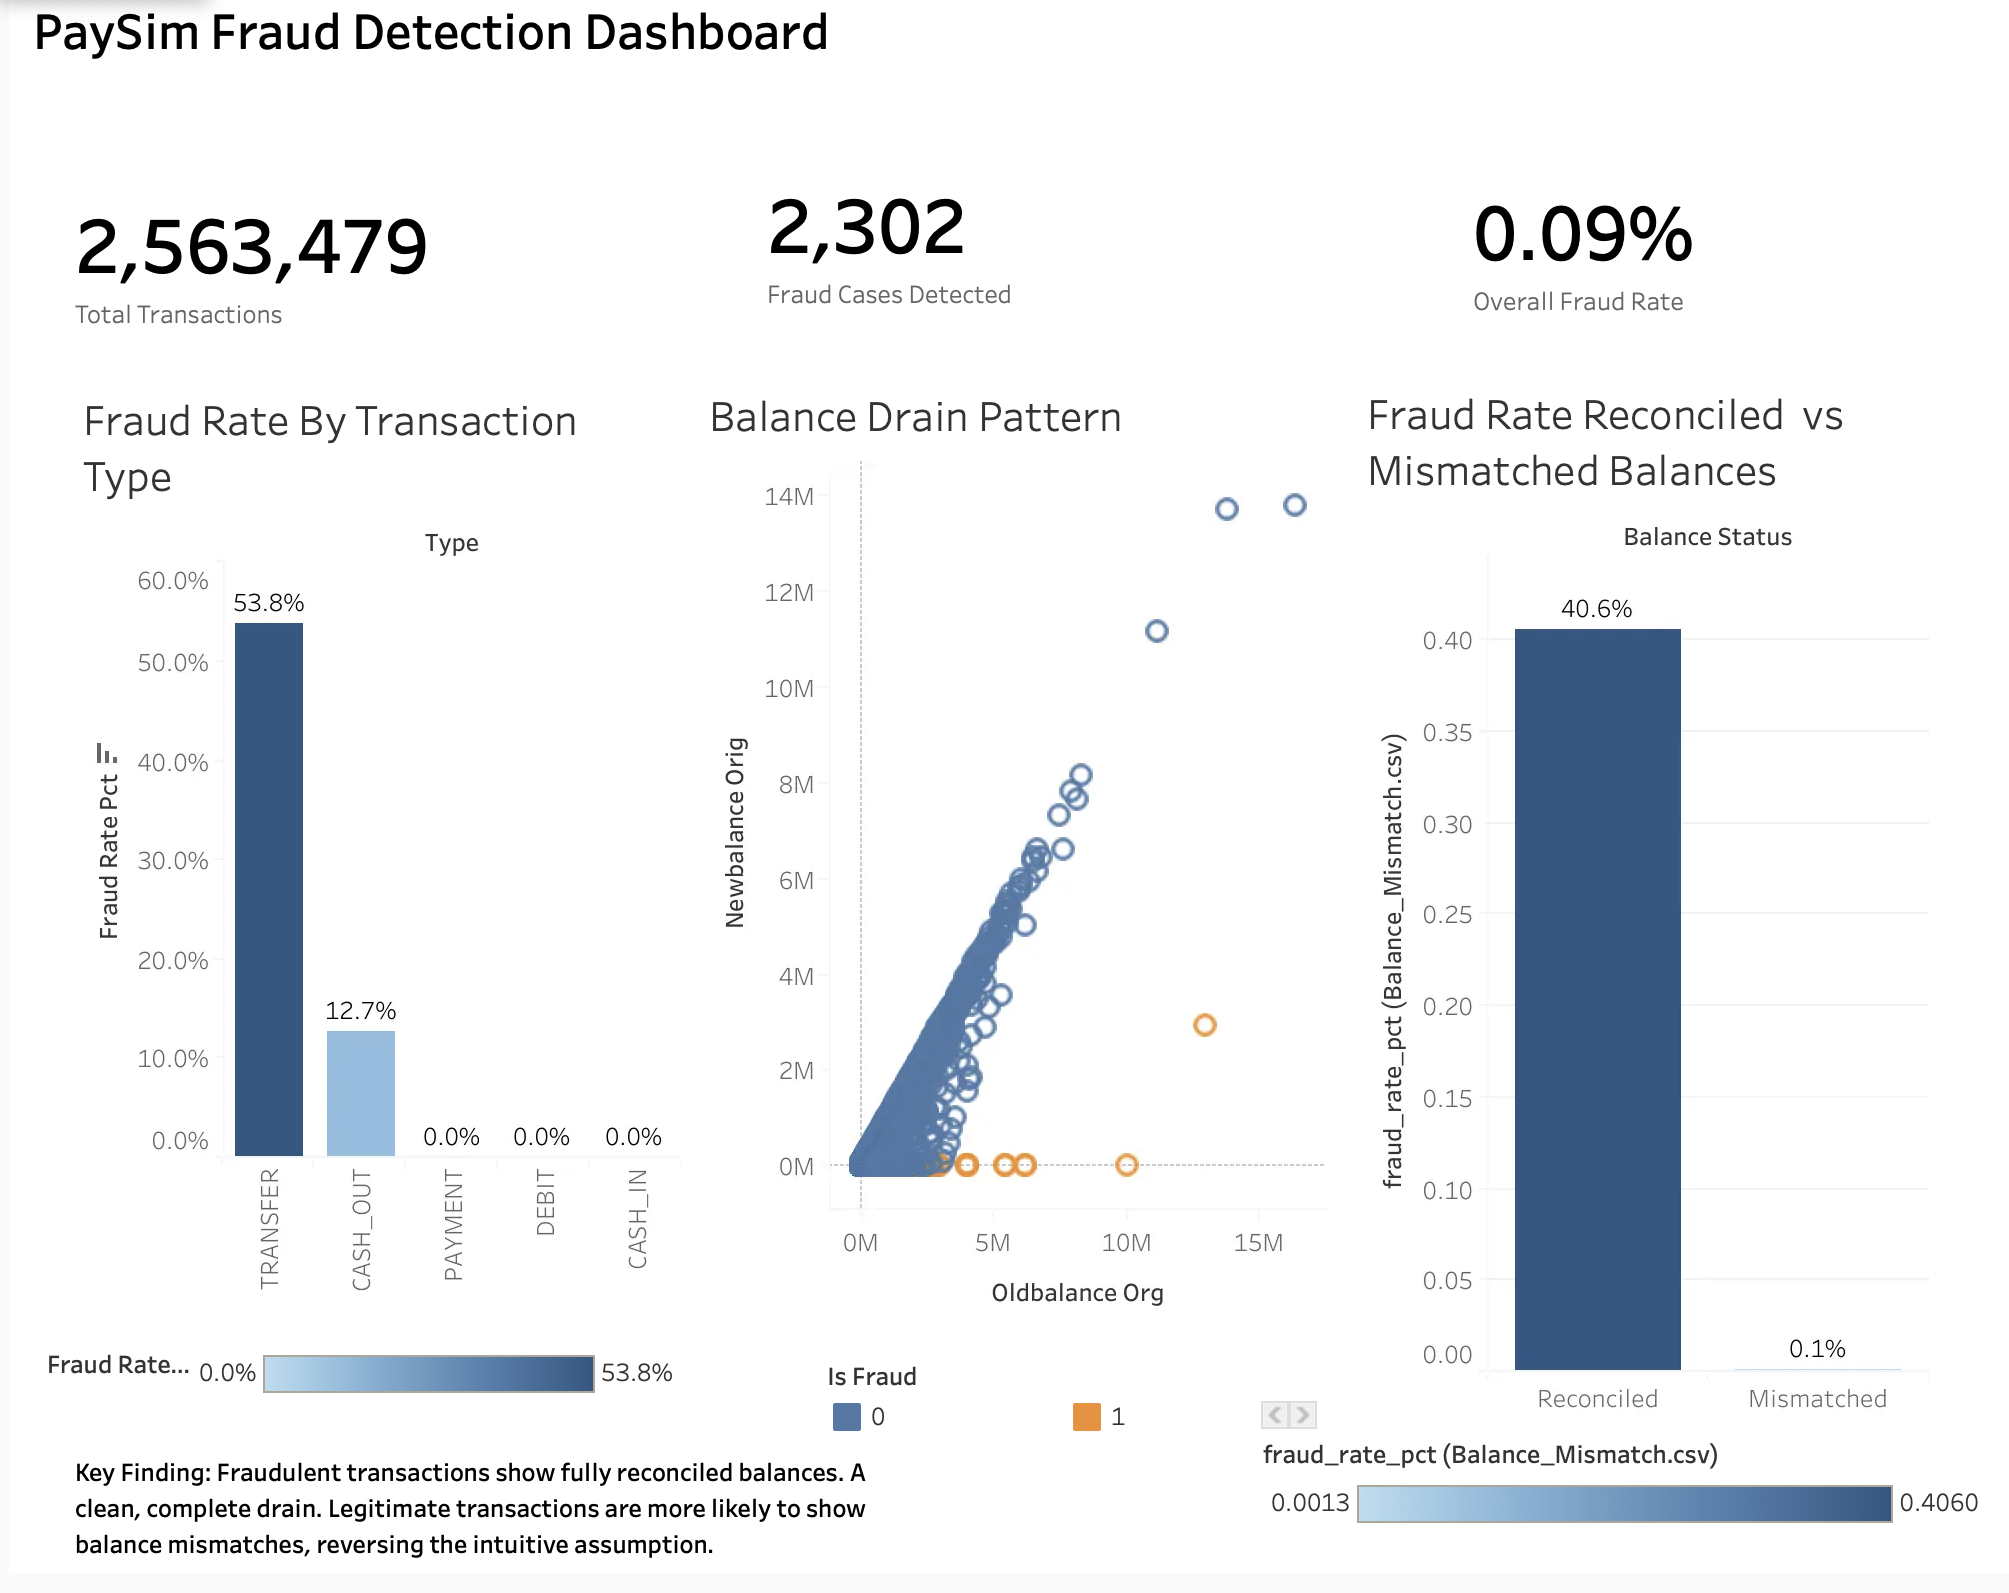

The page's visual inventory and layout, read from the dashboard file:
{"tool":"tableau","page":{"name":"Dashboard 1","canvas":[1000,800],"ordinal":0},"visuals":[{"type":"title","box":[8,8,984,41]},{"type":"text","box":[379,95,181,78]},{"type":"text","box":[732,101,161,73]},{"type":"text","box":[33,107,293,74]},{"type":"worksheet","title":"Fraud Rate Reconciled vs Mismatched Balances ","mark":"Automatic","rows":["fraud_rate_pct (Balance_Mismatch.csv)"],"cols":["Calculation_4304683156733952"],"box":[675,200,285,521]},{"type":"worksheet","title":"Balance Drain Pattern","mark":"Automatic","rows":["newbalanceOrig"],"cols":["oldbalanceOrg"],"box":[346,201,313,474]},{"type":"worksheet","title":"Fraud Rate By Transaction Type","mark":"Automatic","rows":["fraud_rate_pct"],"cols":["type"],"box":[33,203,303,469]},{"type":"text","box":[405,544.3,247,247.7]},{"type":"legend","title":"Fraud Rate By Transaction Type","param":"[federated.1hszet50twvp9f1d4ggv409cuuoo].[sum:Calculation_0591451034116096:qk]","box":[19,687,318,41]},{"type":"legend","title":"Balance Drain Pattern","param":"[federated.1hszet50twvp9f1d4ggv409cuuoo].[none:isFraud:ok]","box":[409,693,247,40]},{"type":"legend","title":"Fraud Rate Reconciled vs Mismatched Balances ","param":"[federated.1hszet50twvp9f1d4ggv409cuuoo].[sum:Calculation_0591451035684865:qk]","box":[627,732,363,48]},{"type":"text","box":[33,738,419,58]}]}

Visuals, with their boxes in screenshot pixels (x1, y1, x2, y2), scaled from the page's 1000x800 canvas onto the 2009x1593 screenshot:
title: {"x1": 16, "y1": 16, "x2": 1993, "y2": 98}
text: {"x1": 761, "y1": 189, "x2": 1125, "y2": 344}
text: {"x1": 1471, "y1": 201, "x2": 1794, "y2": 346}
text: {"x1": 66, "y1": 213, "x2": 655, "y2": 360}
"Fraud Rate Reconciled vs Mismatched Balances " worksheet: {"x1": 1356, "y1": 398, "x2": 1929, "y2": 1436}
"Balance Drain Pattern" worksheet: {"x1": 695, "y1": 400, "x2": 1324, "y2": 1344}
"Fraud Rate By Transaction Type" worksheet: {"x1": 66, "y1": 404, "x2": 675, "y2": 1338}
text: {"x1": 814, "y1": 1084, "x2": 1310, "y2": 1577}
"Fraud Rate By Transaction Type" legend: {"x1": 38, "y1": 1368, "x2": 677, "y2": 1450}
"Balance Drain Pattern" legend: {"x1": 822, "y1": 1380, "x2": 1318, "y2": 1460}
"Fraud Rate Reconciled vs Mismatched Balances " legend: {"x1": 1260, "y1": 1458, "x2": 1989, "y2": 1553}
text: {"x1": 66, "y1": 1470, "x2": 908, "y2": 1585}
